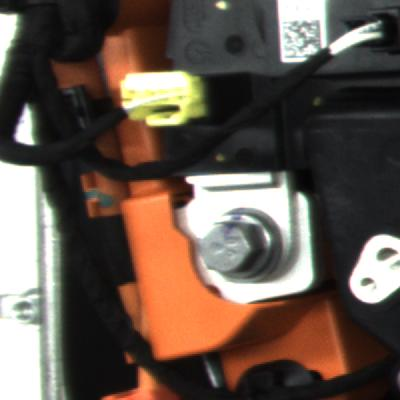nut_b: (190, 203, 297, 286)
